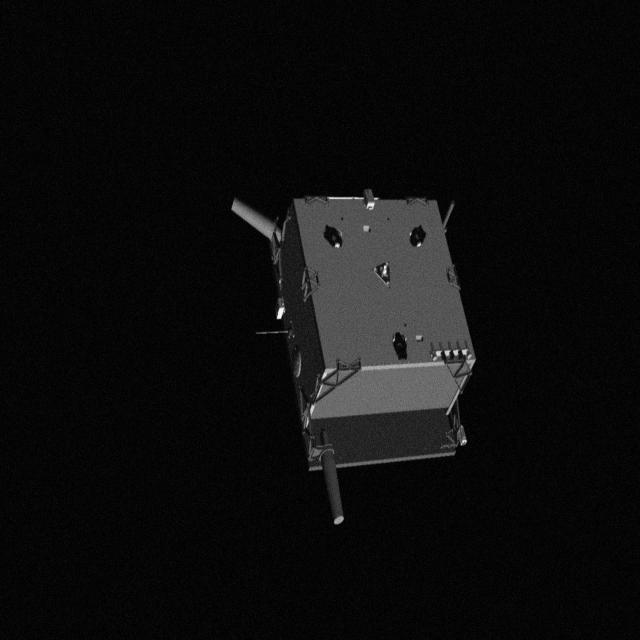satellite: (224, 168, 484, 532)
